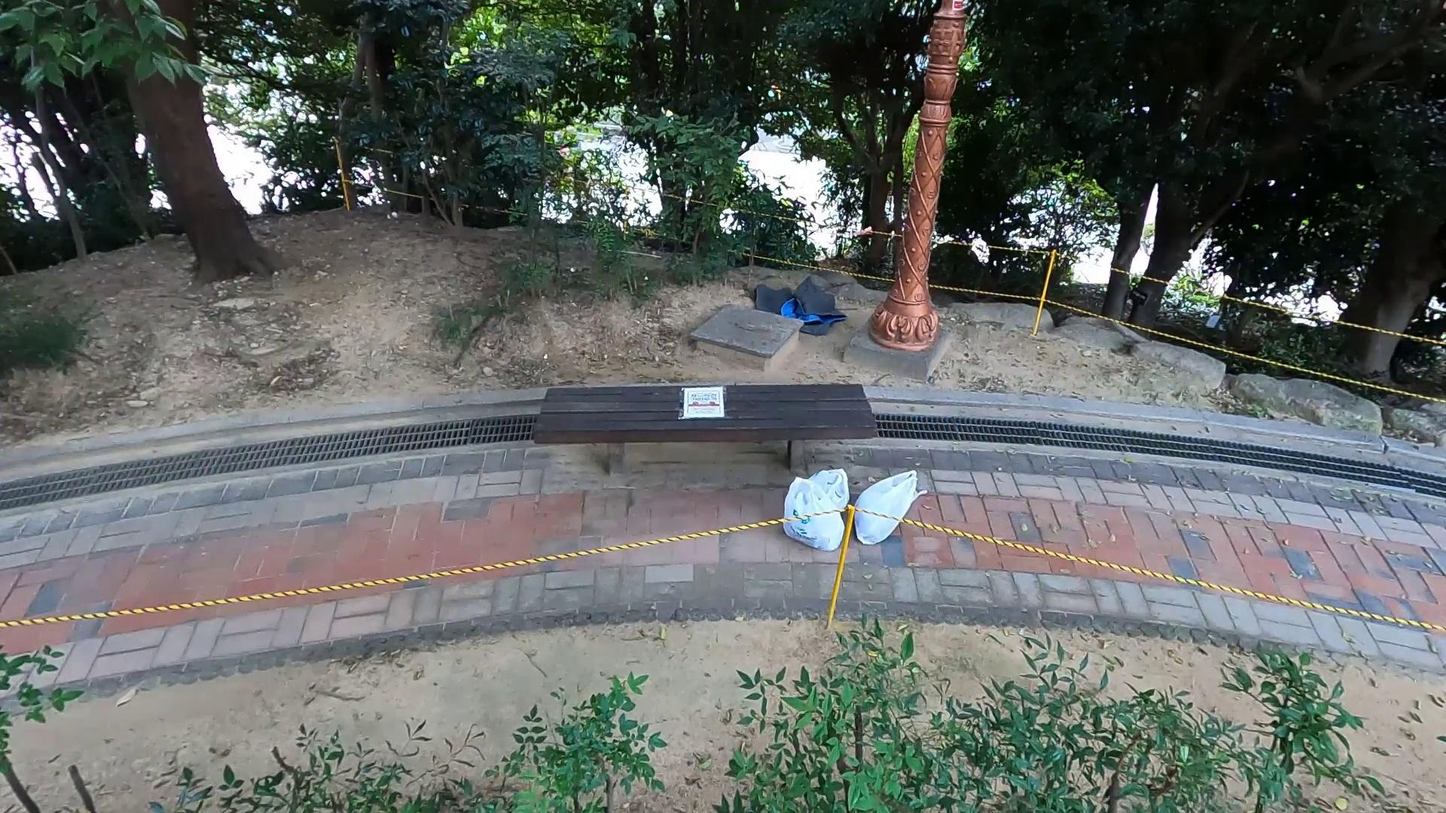trash: (850, 461, 928, 548), (782, 475, 845, 555), (801, 468, 860, 509)
